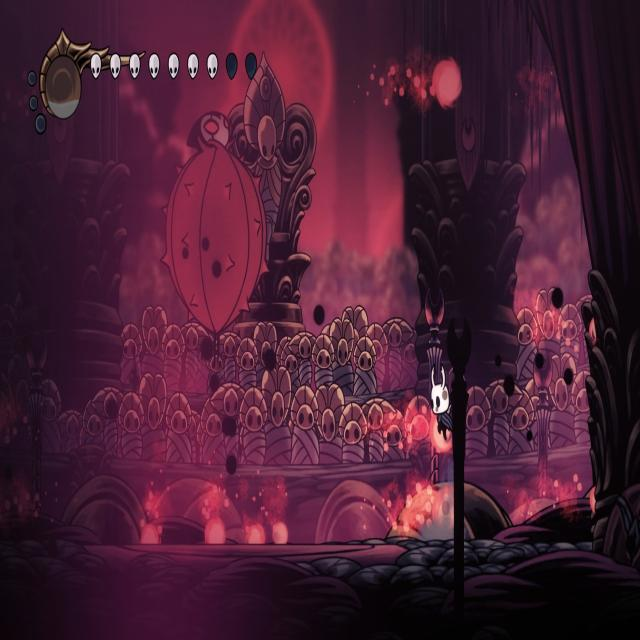Player: (429, 359, 457, 459)
Pufferfish: (157, 107, 270, 369)
Tiny Fireballs: (434, 60, 463, 109), (432, 485, 457, 535), (430, 410, 454, 453), (138, 517, 162, 545), (205, 518, 227, 546), (247, 523, 264, 545), (273, 522, 289, 545)
